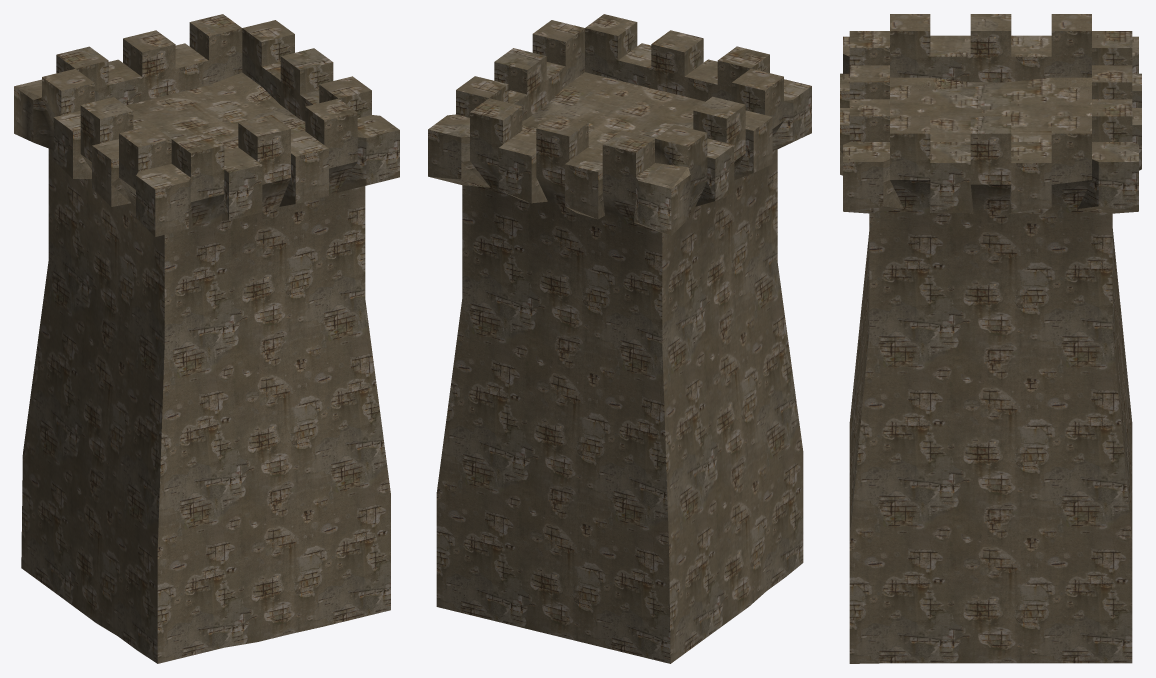
Rendered from towerTest.fbx.
3 renders of one model, left to right at view 1: azimuth 30°, elevation 25°; view 2: azimuth 150°, elevation 25°; view 3: azimuth 270°, elevation 25°, orthographic. The views are drawn at different scales.
Parts seen in each view (by area): view 1: Box001; view 2: Box001; view 3: Box001.
Part boxes in pixels (x1,y1,x2,y2): Box001: (14, 14, 399, 663); Box001: (428, 14, 811, 663); Box001: (840, 14, 1141, 663).
Size of the model in its own units: 10.5 by 10.5 by 20.37.
1 material, 1 textured.
